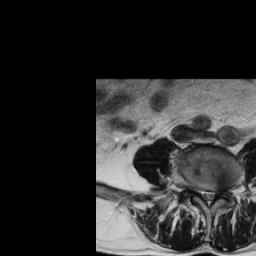CCS_normal: (205, 185, 211, 208)
LFS_severe_stenosis: (217, 183, 223, 200)
LLS_stenosis: (211, 185, 217, 203)
RFS_severe_stenosis: (193, 182, 199, 199)
RLS_stenosis: (199, 184, 205, 202)
